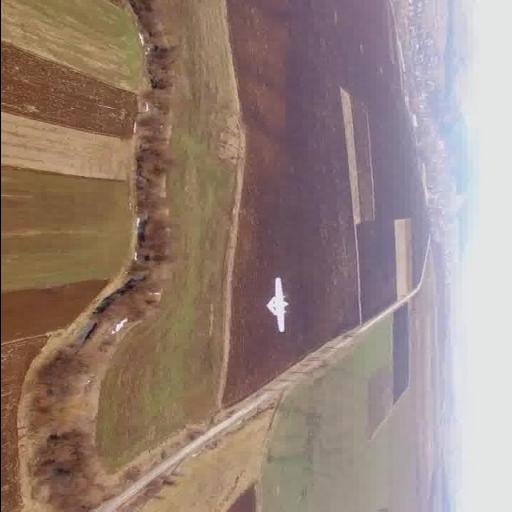uav: (254, 279, 296, 335)
